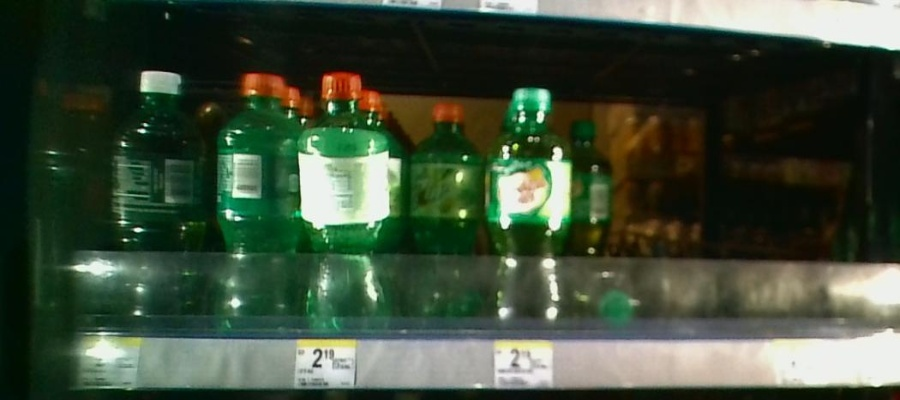bottle: (109, 57, 209, 332), (298, 70, 394, 341), (213, 60, 296, 342), (484, 75, 571, 333), (403, 87, 482, 324), (573, 119, 613, 273)
